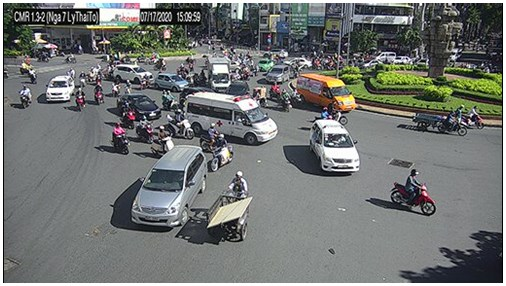xe_ba_gac: (206, 170, 252, 241), (412, 110, 468, 137)
xe_cuu_thuong: (186, 90, 278, 144)
xe_hoi: (130, 145, 206, 224), (309, 118, 360, 174), (112, 64, 153, 85), (43, 75, 70, 102), (154, 74, 187, 91), (267, 66, 289, 82), (284, 58, 311, 69), (263, 48, 288, 59), (360, 59, 383, 69), (258, 58, 273, 72), (392, 55, 410, 65)
xe_khach: (296, 73, 356, 112), (371, 51, 396, 61)
xe_may: (391, 169, 436, 215), (164, 109, 195, 140), (151, 126, 174, 157), (462, 105, 486, 131), (112, 121, 130, 155), (136, 115, 155, 145), (121, 101, 136, 129), (161, 89, 180, 110), (71, 86, 86, 112), (19, 83, 34, 109), (287, 86, 302, 110), (253, 85, 267, 109), (269, 80, 284, 101), (279, 87, 290, 113), (94, 81, 104, 105), (152, 57, 167, 72), (138, 73, 150, 91), (109, 80, 120, 97), (76, 70, 87, 86), (62, 53, 76, 65), (27, 67, 37, 82), (125, 78, 132, 94), (187, 58, 195, 71)
